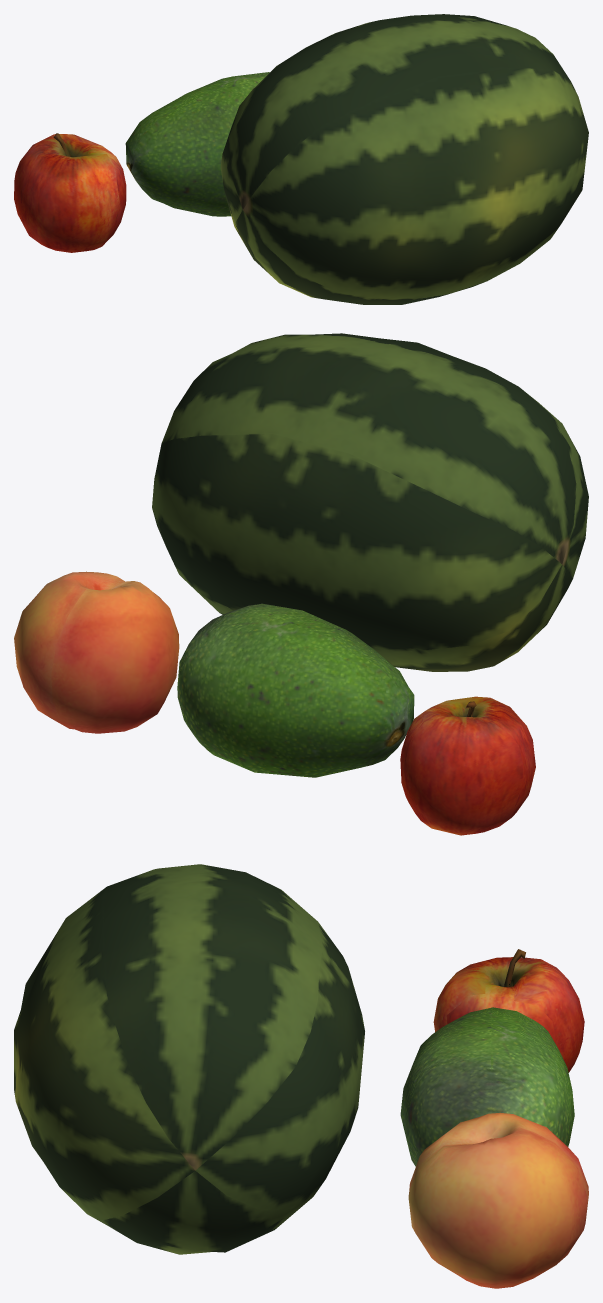
Rendered from avocado.fbx.
The picture shows the model from 3 angles, top to bottom: view 1: azimuth 30°, elevation 25°; view 2: azimuth 150°, elevation 25°; view 3: azimuth 270°, elevation 25°; orthographic projection. The views are drawn at different scales.
Visible parts, largest first — view 1: WaterMelon, Avacado, Apple; view 2: WaterMelon, Avacado, Peach, Apple; view 3: WaterMelon, Peach, Avacado, Apple.
Boxes of the visible parts, x1=… form: WaterMelon: x1=220, y1=14, x2=588, y2=304; Avacado: x1=125, y1=72, x2=269, y2=216; Apple: x1=14, y1=133, x2=126, y2=252; WaterMelon: x1=152, y1=333, x2=588, y2=671; Avacado: x1=177, y1=603, x2=414, y2=777; Peach: x1=14, y1=571, x2=179, y2=733; Apple: x1=400, y1=696, x2=535, y2=835; WaterMelon: x1=14, y1=864, x2=364, y2=1254; Peach: x1=408, y1=1112, x2=588, y2=1288; Avacado: x1=400, y1=1007, x2=574, y2=1166; Apple: x1=433, y1=949, x2=584, y2=1072.
Size of the model in its own units: 30.06 by 17.08 by 28.29.
1 material, 1 textured.
